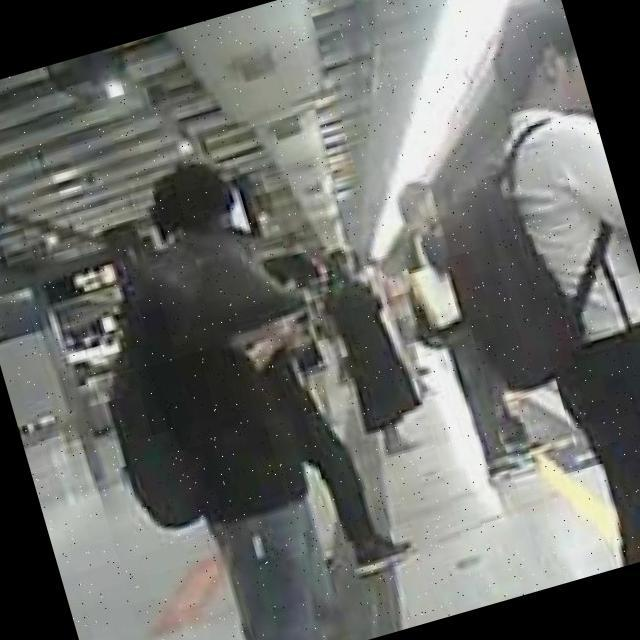person: (99, 148, 386, 640), (456, 0, 640, 569), (368, 170, 540, 503), (307, 234, 434, 463)
